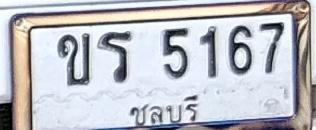1: (199, 25, 217, 78)
5: (162, 27, 189, 79)
6: (228, 24, 252, 74)
7: (259, 21, 284, 74)
A02: (57, 32, 91, 86)
A35: (97, 30, 132, 82)
CBI: (123, 90, 208, 130)
